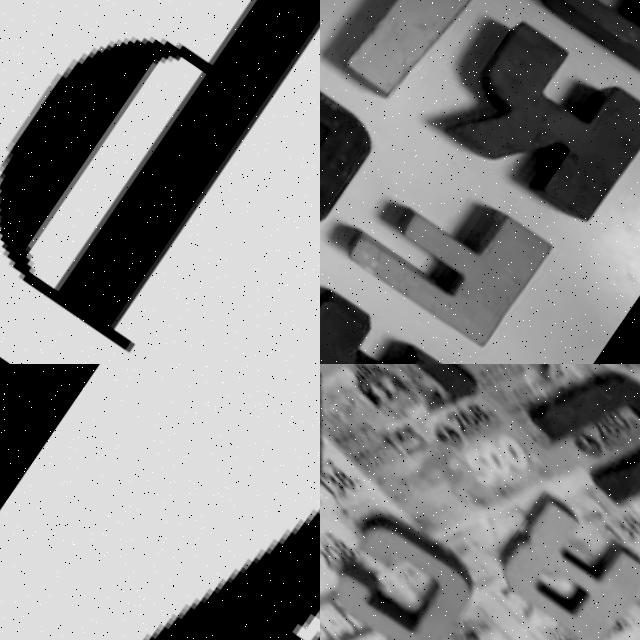A: (320, 283, 464, 364)
C: (320, 509, 482, 640)
F: (332, 145, 551, 353)
G: (320, 31, 380, 239)
H: (0, 364, 320, 640)
K: (432, 14, 640, 233)
L: (320, 0, 484, 117)
R: (479, 489, 640, 640)
T: (344, 364, 523, 406)
U: (501, 364, 640, 535)
